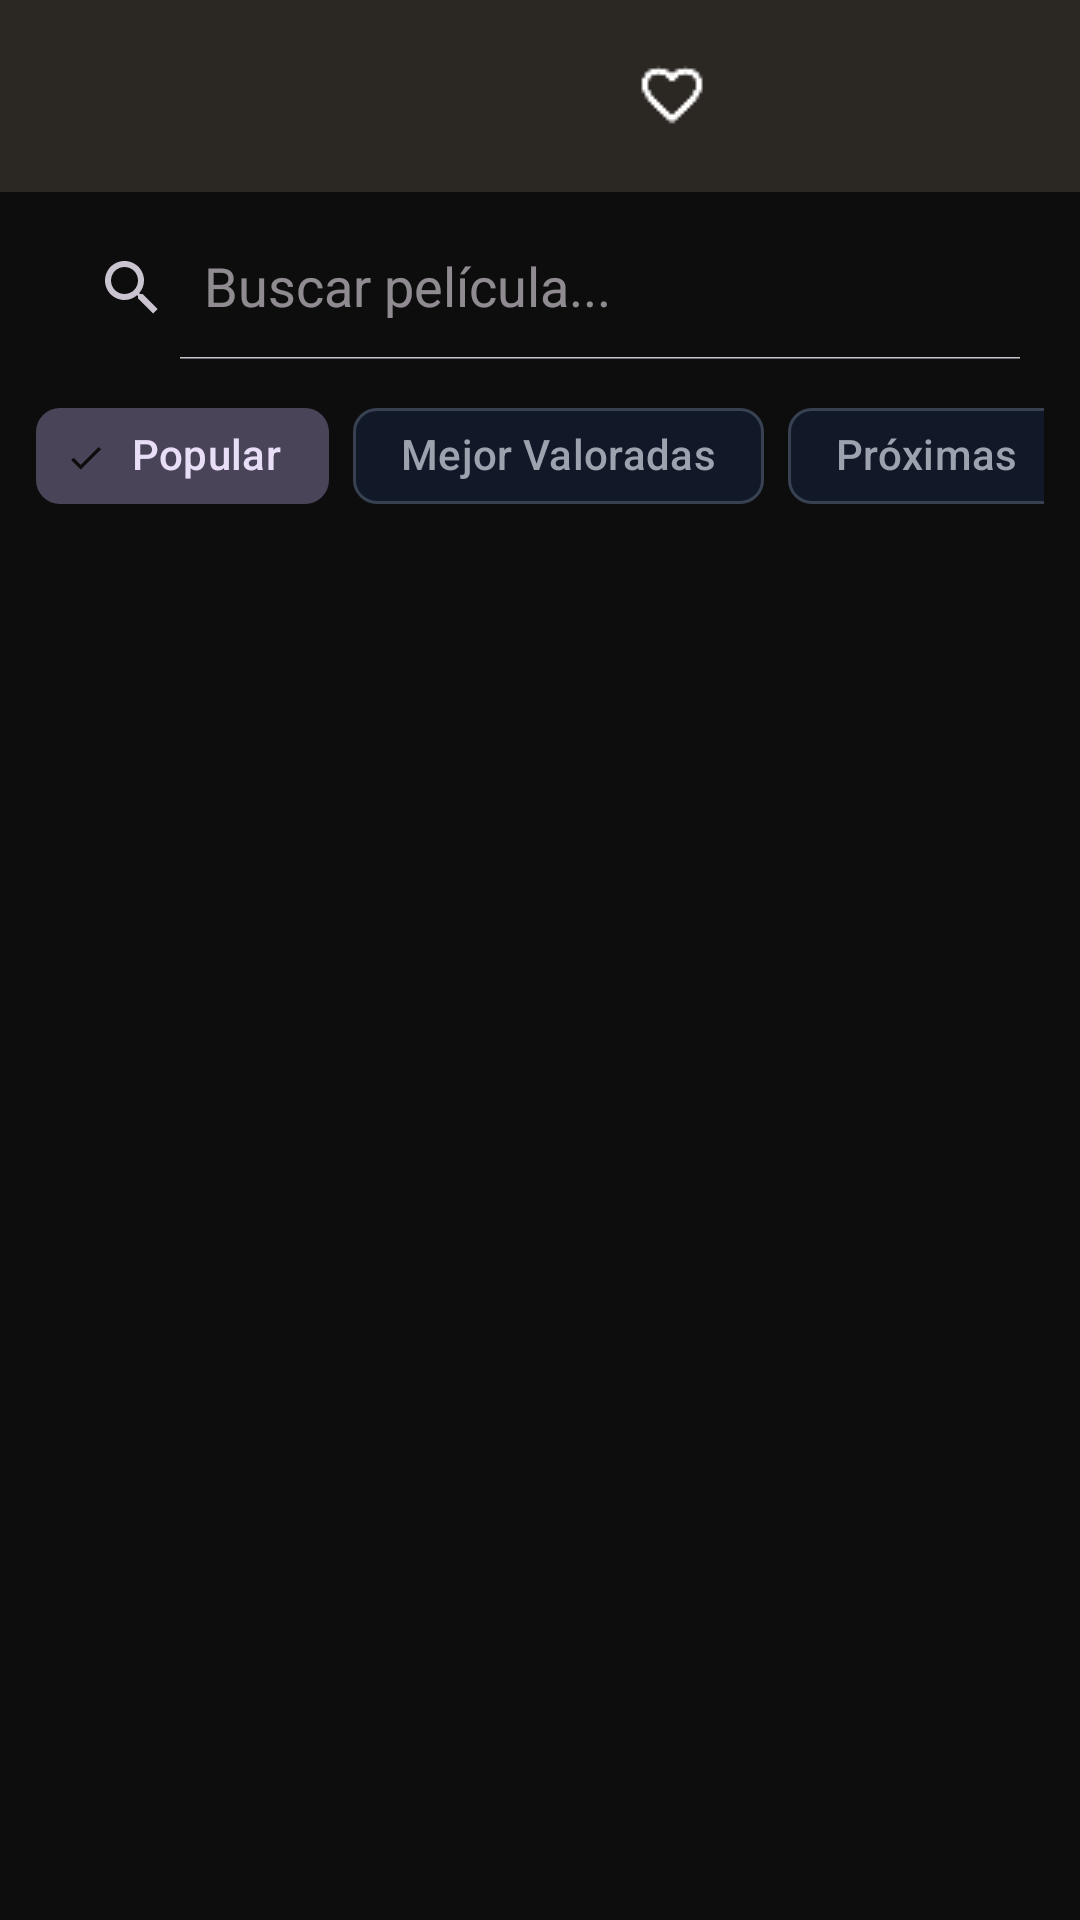

Named icons in this screenshot (1080*1920) and their bounding boxes, [x1=x1, y1=y1, x2=x2, y2=y2]:
Favoritos: [x1=641, y1=66, x2=703, y2=124]
